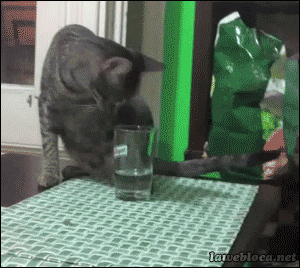glass of water: (111, 124, 153, 201)
